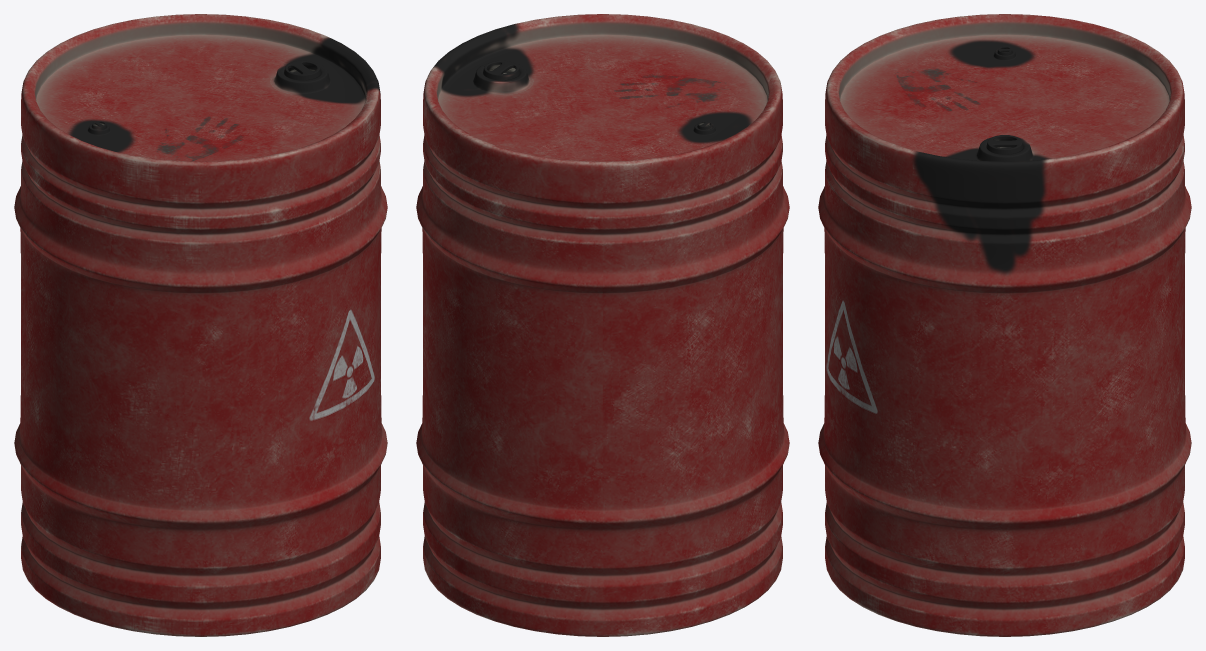
The model's file is barril_oxidado.glb.
3 renders of one model, left to right at view 1: azimuth 30°, elevation 25°; view 2: azimuth 150°, elevation 25°; view 3: azimuth 270°, elevation 25°, orthographic.
Parts seen in each view (by area): view 1: pCylinder1, pCylinder2, pCylinder3; view 2: pCylinder1, pCylinder2, pCylinder3; view 3: pCylinder1, pCylinder2, pCylinder3.
Part boxes in pixels (left/top/right/bottom): pCylinder1: left=14, top=14, right=387, bottom=636; pCylinder2: left=271, top=63, right=330, bottom=94; pCylinder3: left=284, top=60, right=320, bottom=80; pCylinder1: left=416, top=14, right=789, bottom=636; pCylinder2: left=473, top=63, right=532, bottom=94; pCylinder3: left=483, top=60, right=519, bottom=80; pCylinder1: left=818, top=14, right=1191, bottom=636; pCylinder2: left=975, top=137, right=1034, bottom=161; pCylinder3: left=986, top=135, right=1023, bottom=154.
Bounding box in the file's own units: 0.8555 × 1.2 × 0.8555.
Materials: 1 (1 with a texture image).
